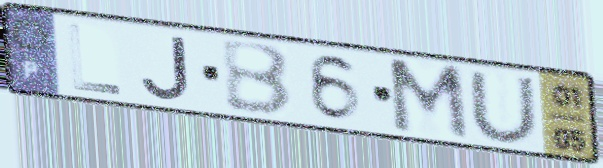6: (305, 53, 365, 125)
B: (217, 39, 296, 119)
J: (138, 34, 195, 103)
L: (65, 20, 125, 98)
M: (384, 56, 474, 145)
U: (465, 69, 544, 148)
